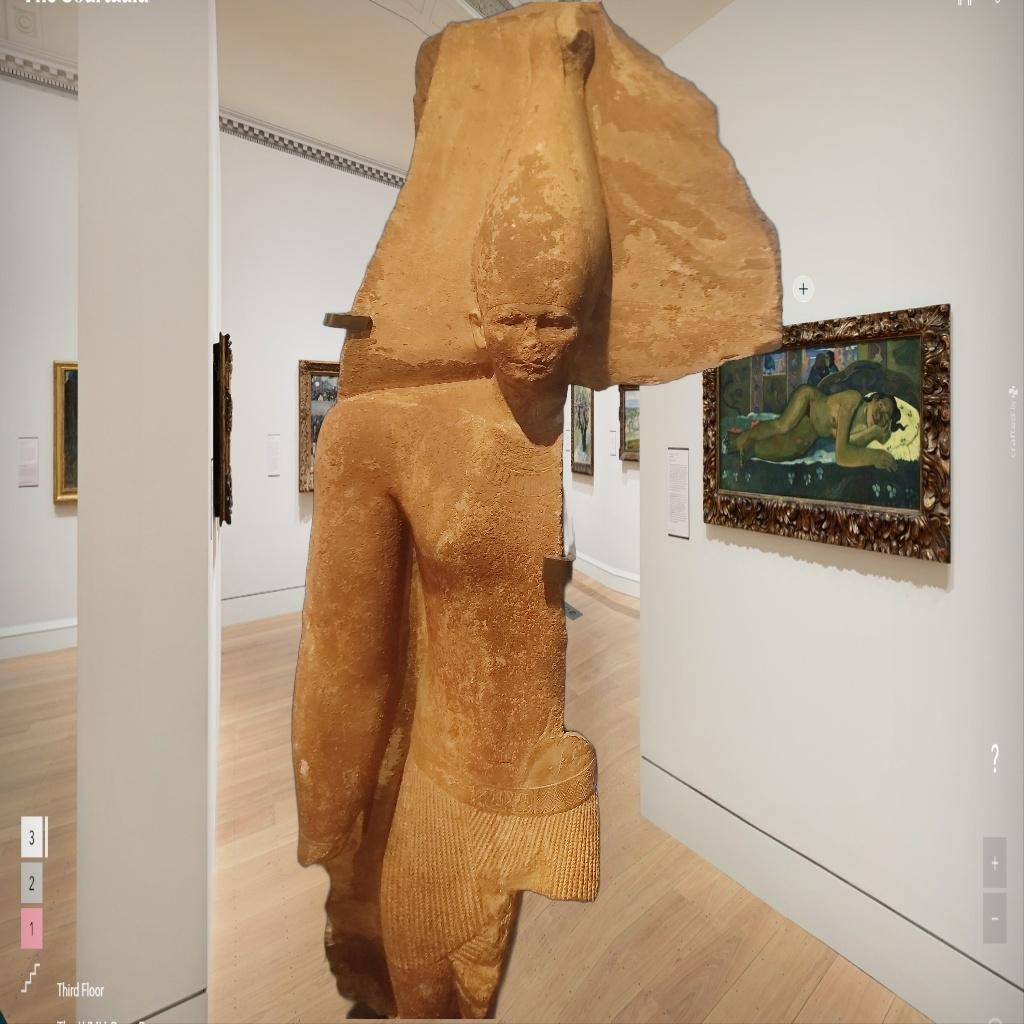Statue of Snefru: (284, 2, 790, 1018)
